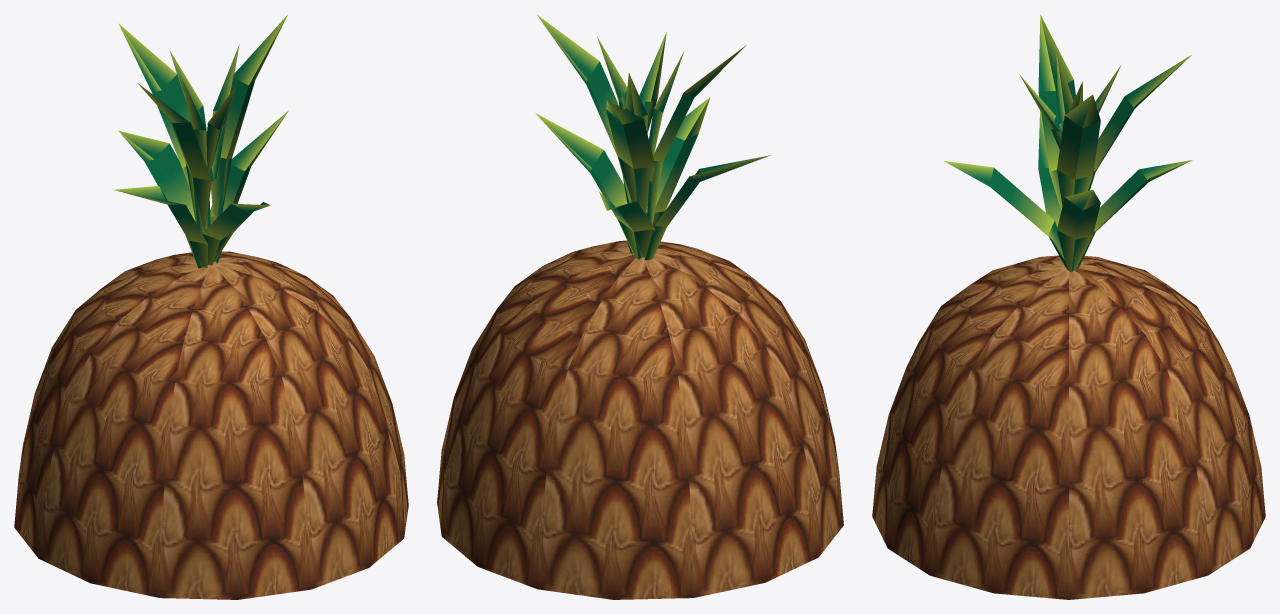
The model's file is pineappleS1.FBX.
The picture shows the model from 3 angles, left to right: view 1: azimuth 30°, elevation 25°; view 2: azimuth 150°, elevation 25°; view 3: azimuth 270°, elevation 25°; orthographic projection. The views are drawn at different scales.
Parts seen in each view (by area): view 1: PineAppleTop; view 2: PineAppleTop; view 3: PineAppleTop.
Part boxes in pixels (x1,y1,x2,y2): PineAppleTop: (14,15,408,599); PineAppleTop: (437,14,843,599); PineAppleTop: (872,14,1265,599).
Bounding box in the file's own units: 12.15 × 15.86 × 12.15.
